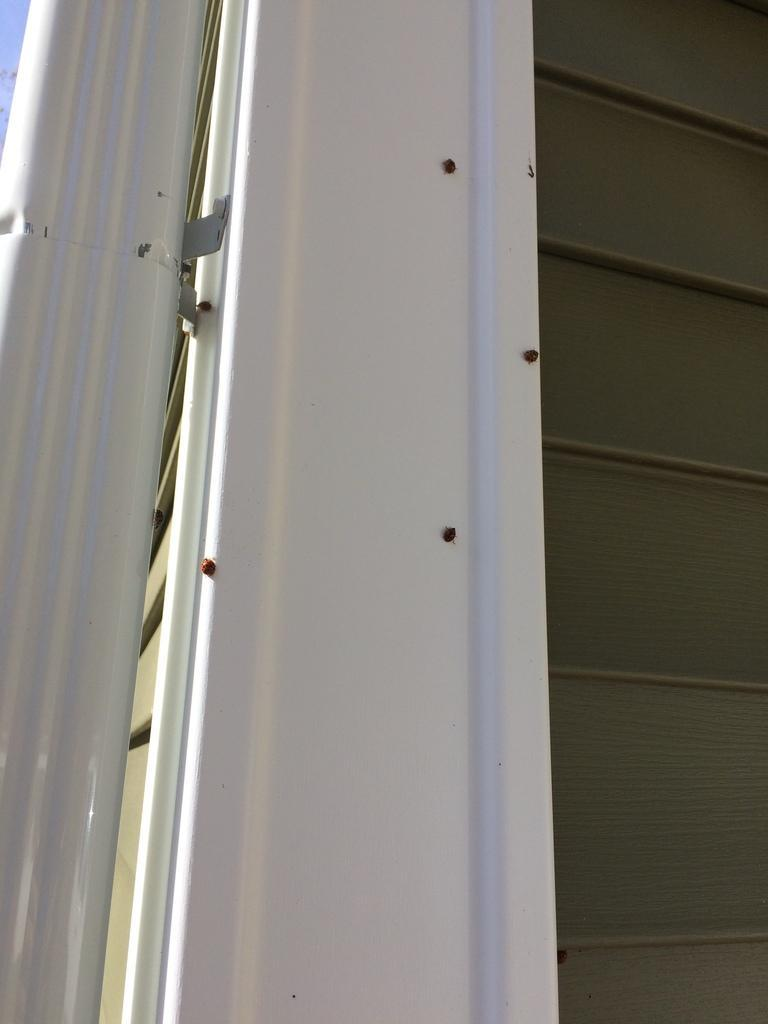ladybug: (443, 526, 461, 546), (200, 558, 218, 578), (522, 349, 541, 367), (443, 159, 460, 177), (197, 301, 214, 313), (558, 951, 569, 965)
